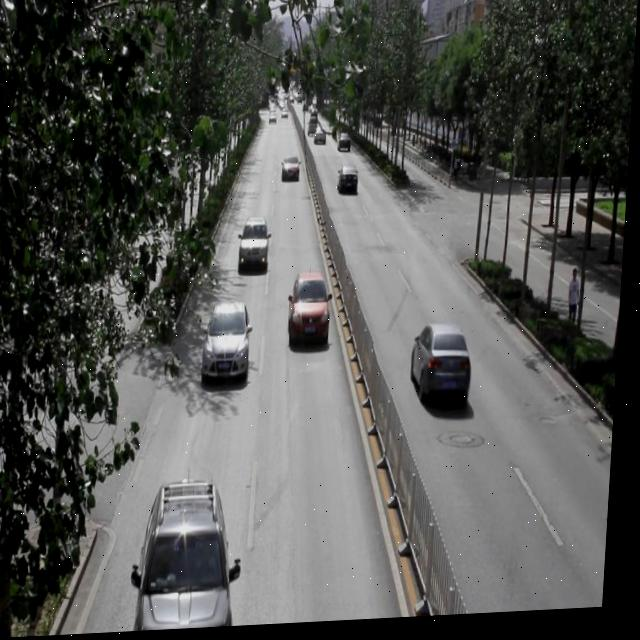car: (144, 481, 243, 632), (412, 325, 476, 411), (206, 301, 255, 385), (288, 273, 335, 353), (241, 218, 272, 274), (339, 168, 362, 198), (282, 156, 302, 185), (338, 135, 354, 155), (314, 128, 328, 147)
truck: (308, 121, 320, 138)
